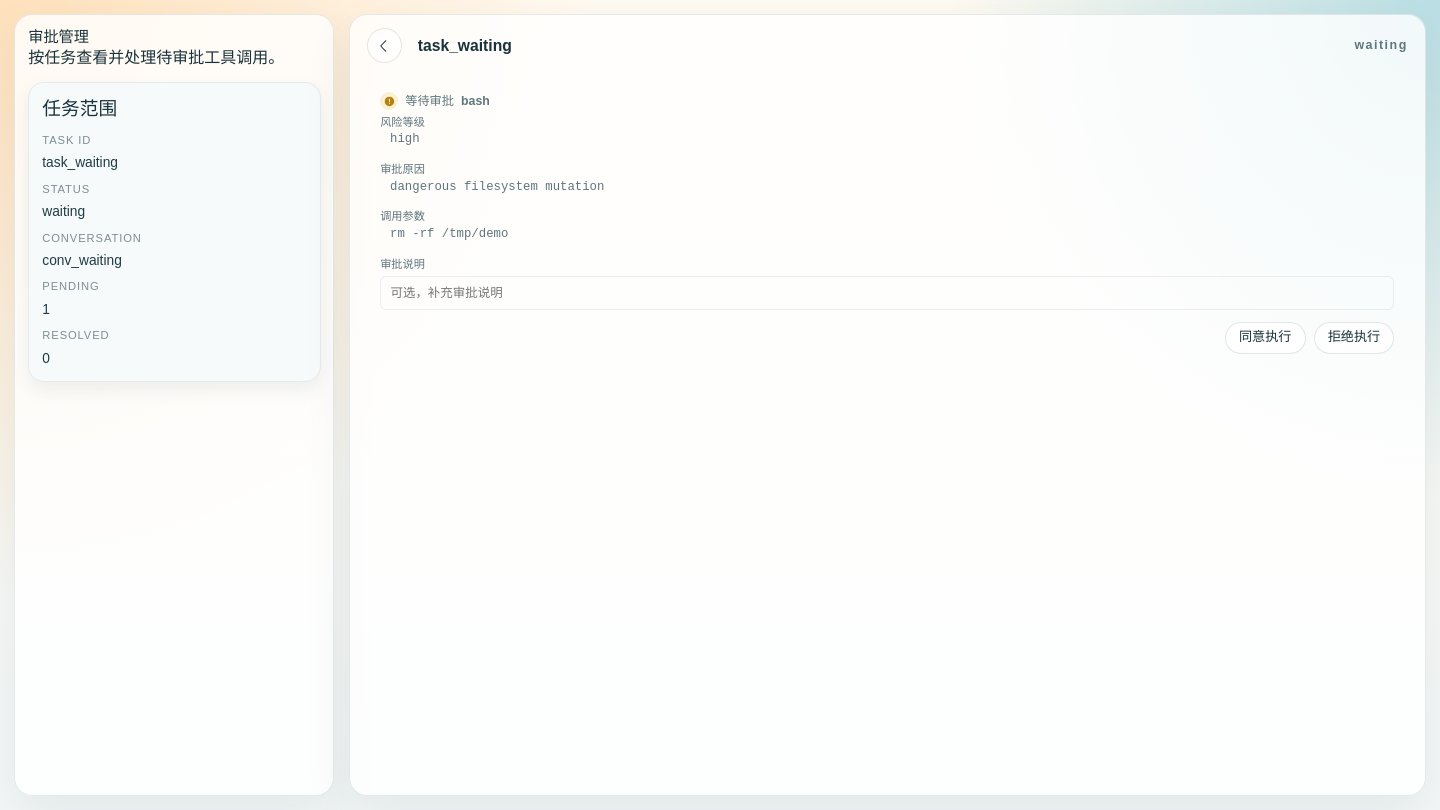
Test: ApprovalView › submits an approval decision for the selected task and stays on the same route
In the field with class "approval-reason-input": (887, 293) 380,276 -> 1394,310, type "looks safe"
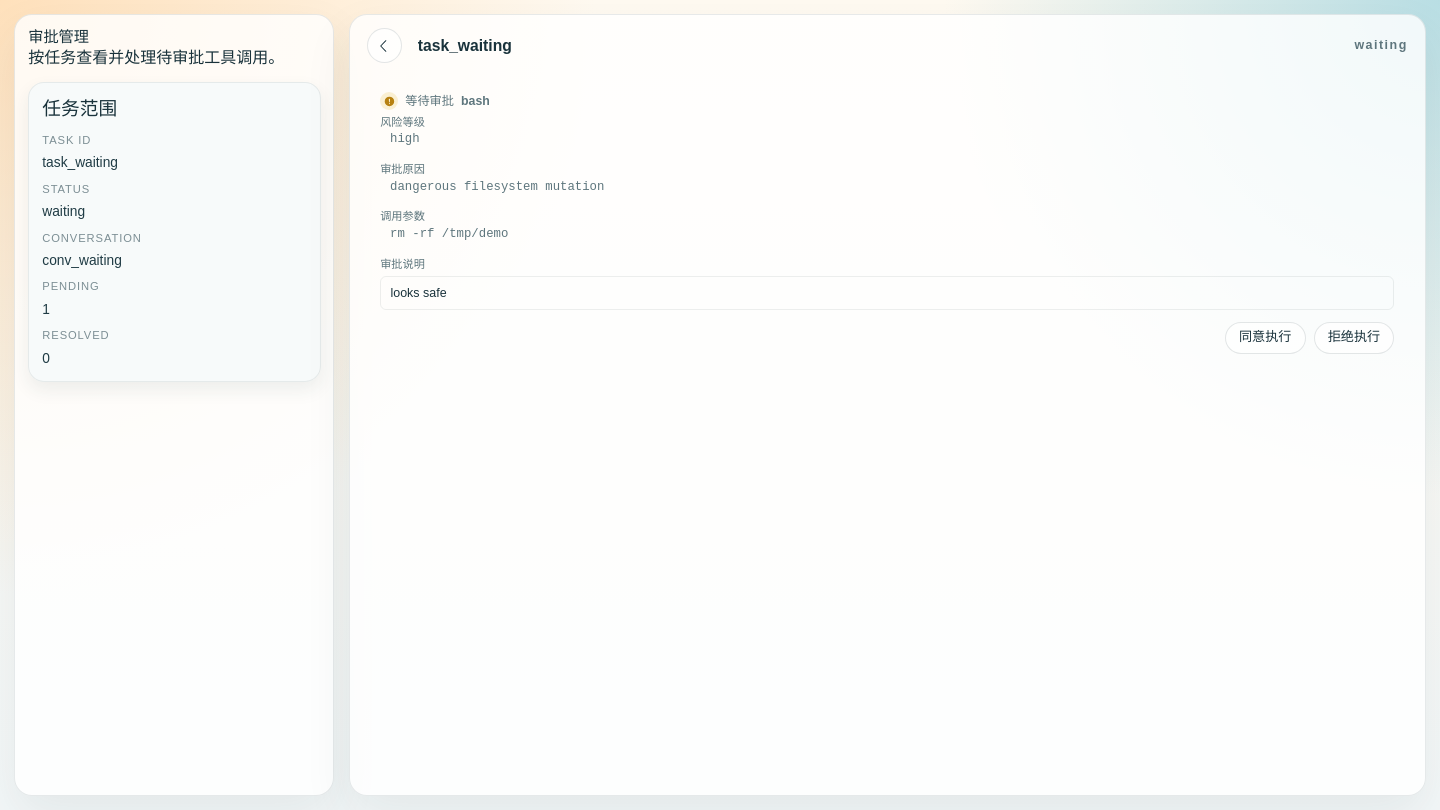
Click the button "同意执行": (1265, 338) 1225,322 -> 1306,354
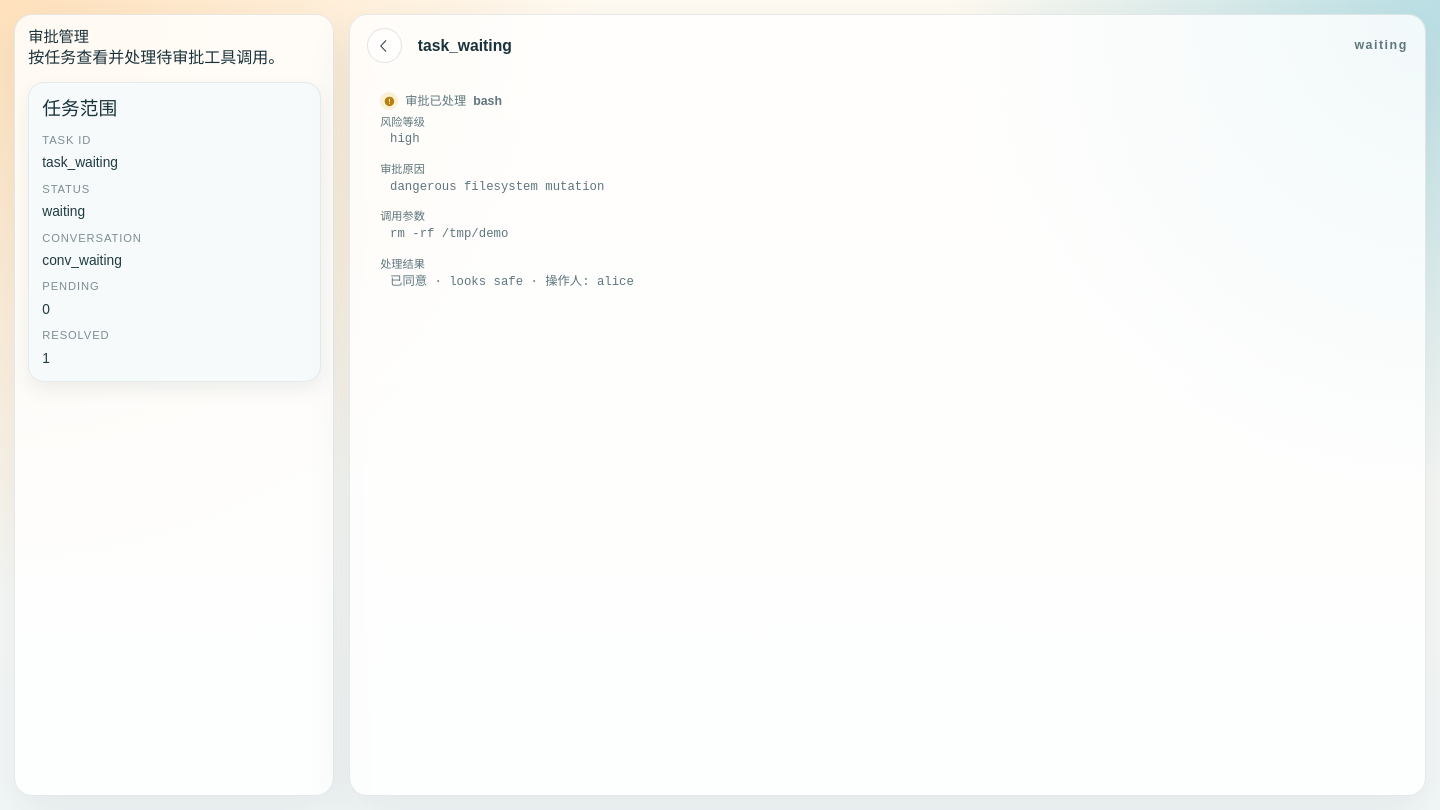
Expected: the text "已同意" is shown, 390,274 -> 634,288
Expected: the text "looks safe" is shown, 390,274 -> 634,288
